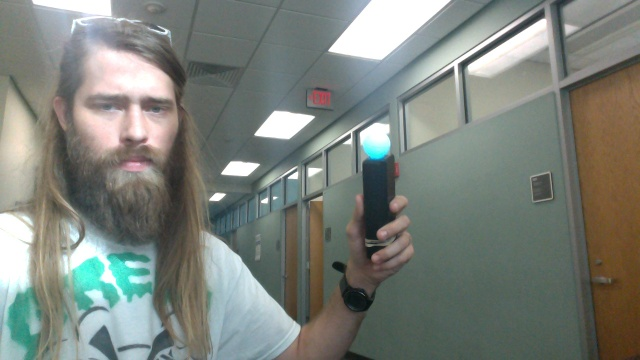wand: (362, 129, 391, 160)
